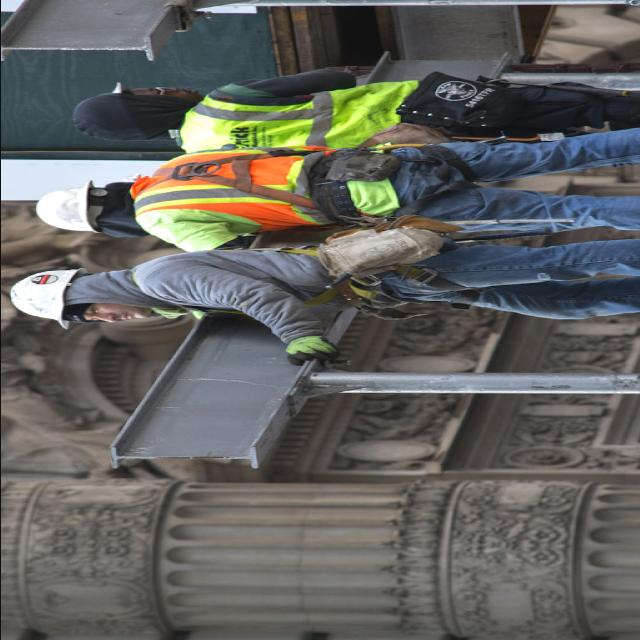Gloves: (278, 334, 344, 366)
Hard Hat: (3, 266, 92, 332), (68, 78, 132, 154), (25, 179, 99, 233)
Reflective Vest: (124, 146, 364, 236), (176, 78, 431, 157)
